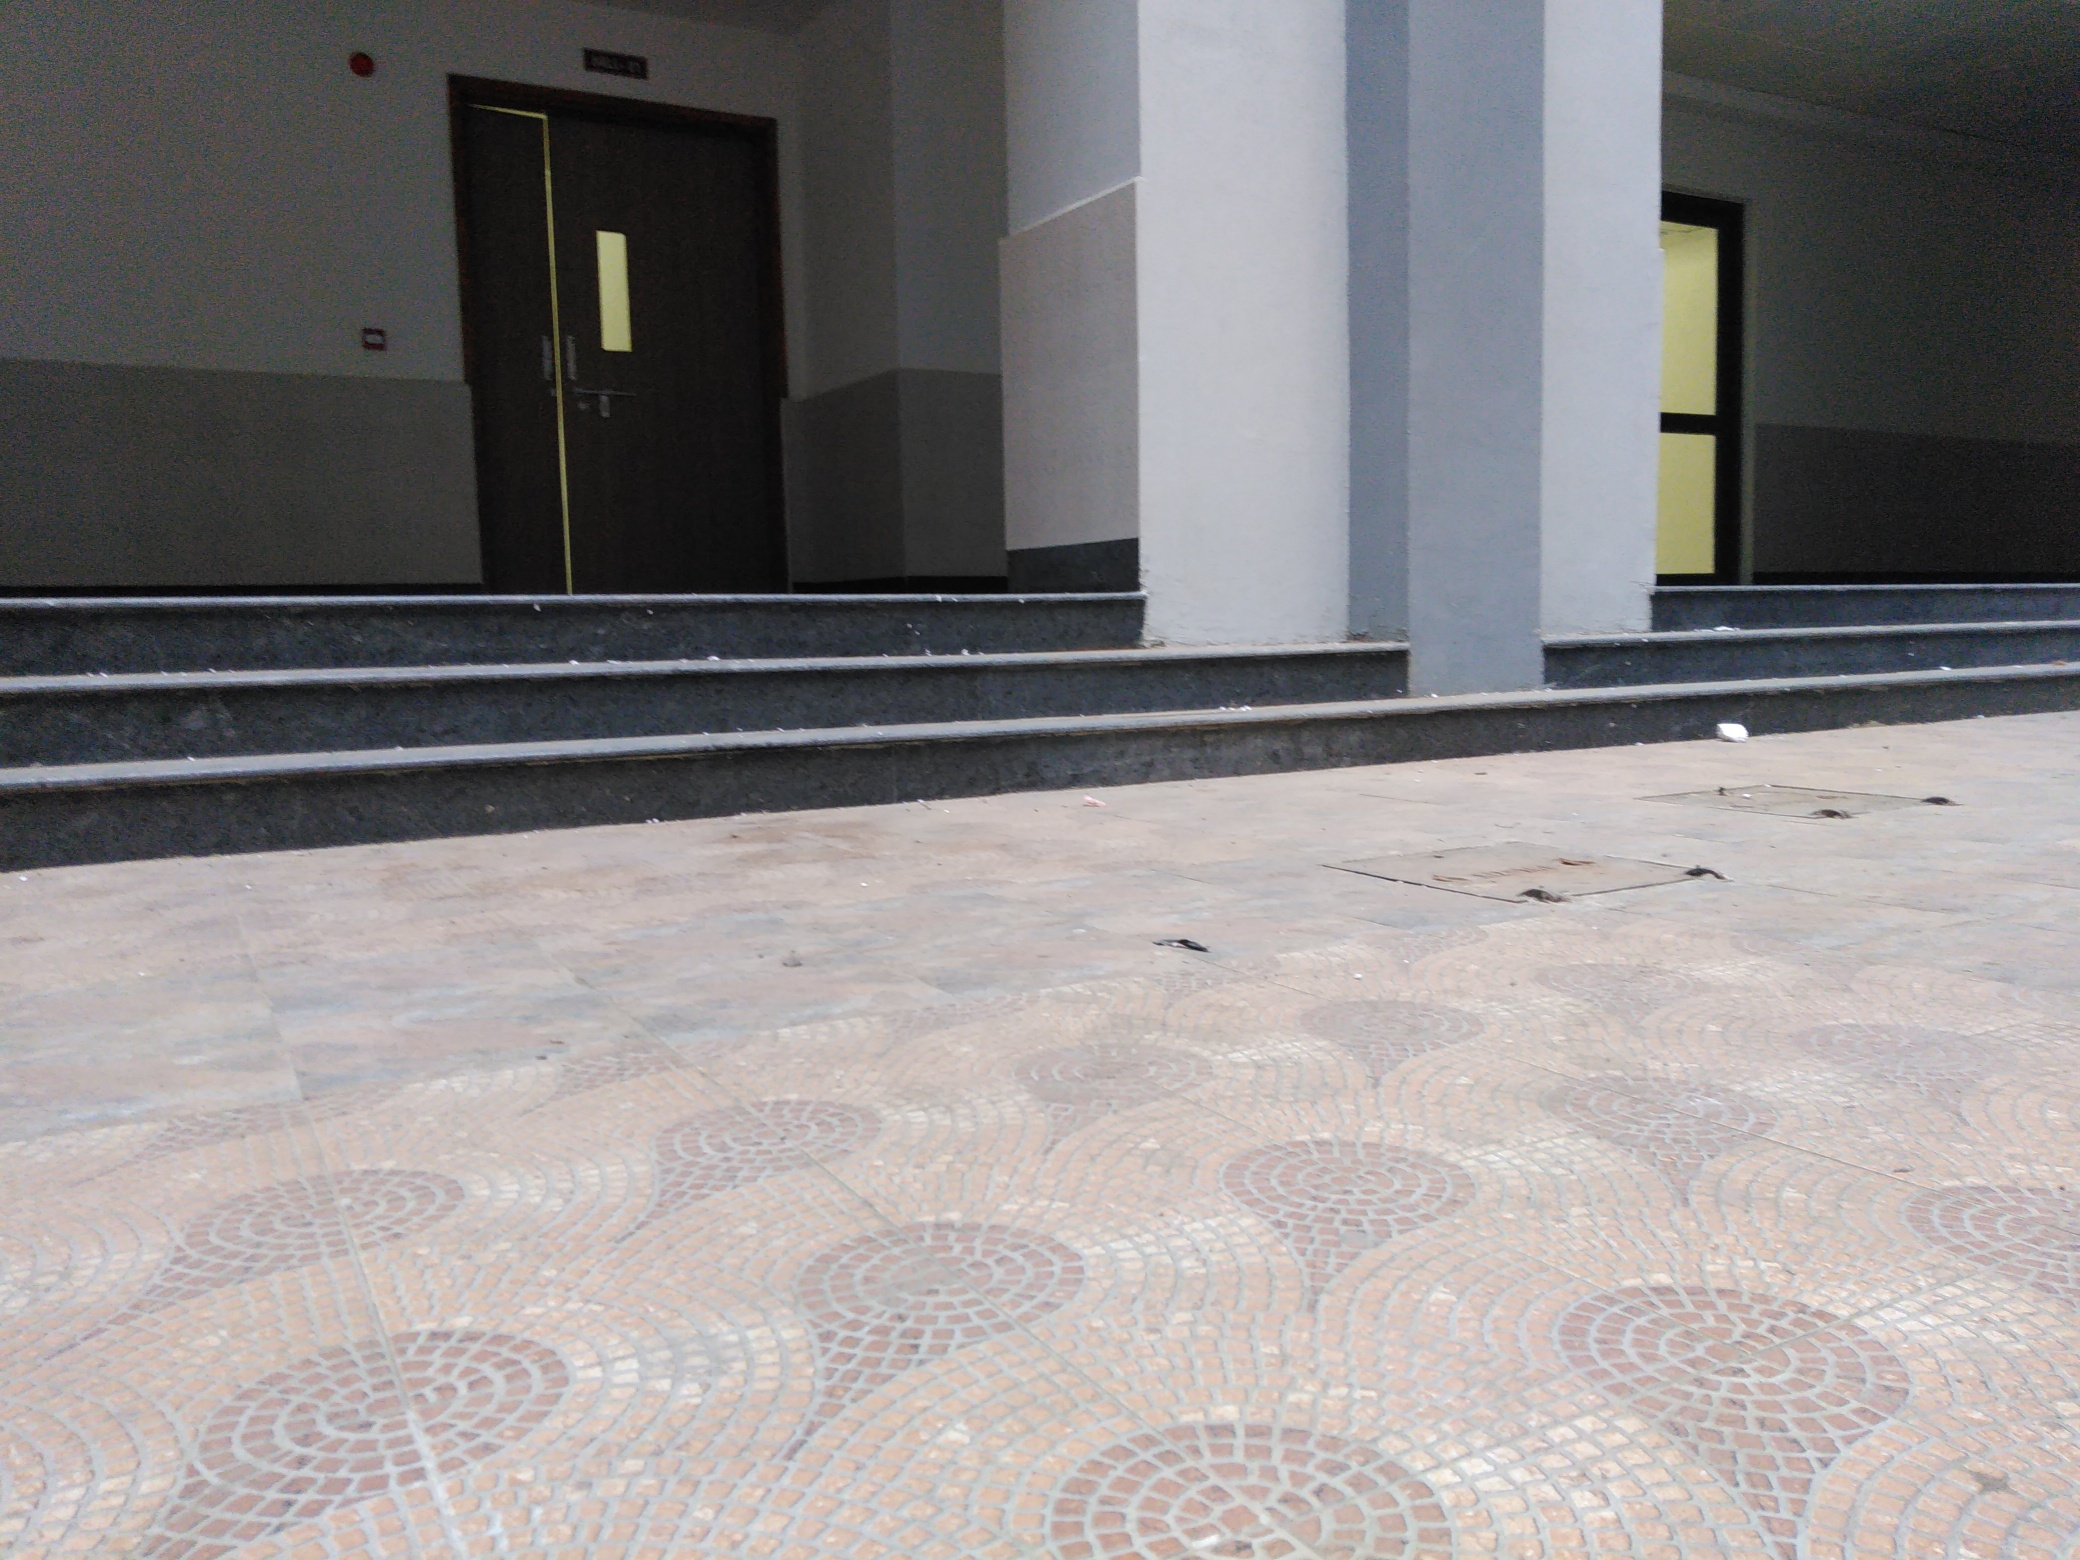stairs_up: (21, 593, 1322, 775), (1577, 588, 2080, 739)
